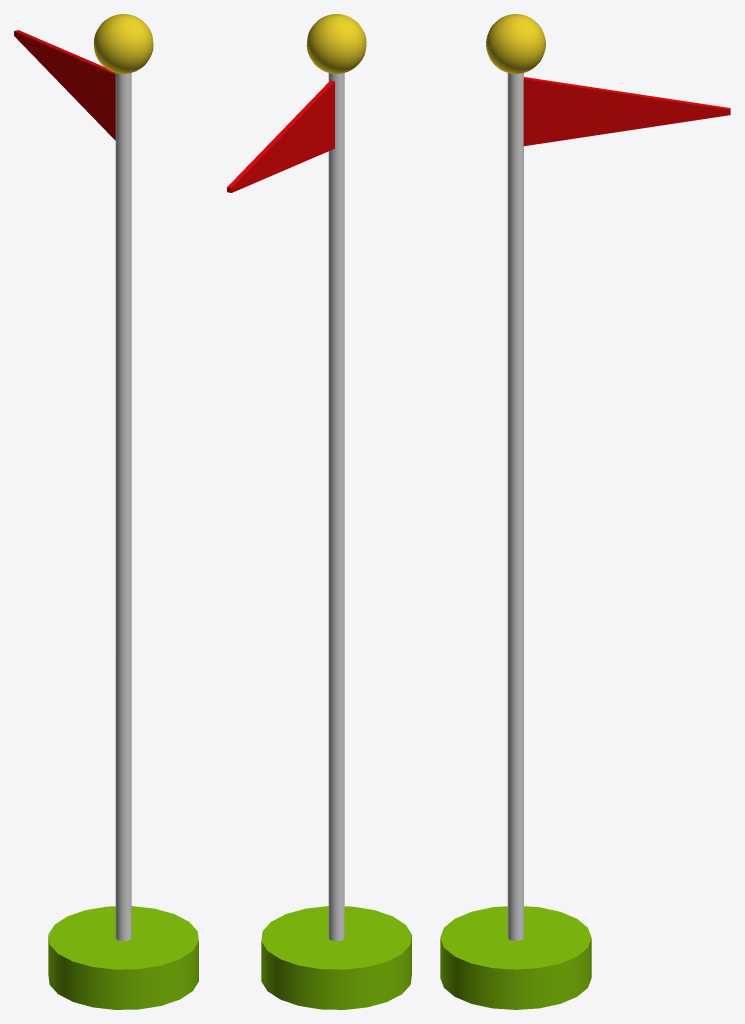
Rendered from Flag.fbx.
3 views of the same model, side by side, from view 1: azimuth 30°, elevation 25°; view 2: azimuth 150°, elevation 25°; view 3: azimuth 270°, elevation 25° (orthographic).
Visible parts, largest first — view 1: Pole, Flag; view 2: Pole, Flag; view 3: Pole, Flag.
Boxes of the visible parts, left/top/right/bottom form: Pole: left=48, top=14, right=198, bottom=1009; Flag: left=14, top=30, right=115, bottom=140; Pole: left=261, top=14, right=411, bottom=1009; Flag: left=227, top=80, right=334, bottom=192; Pole: left=440, top=14, right=591, bottom=1009; Flag: left=523, top=77, right=730, bottom=146.
Bounding box in the file's own units: 2 × 14.09 × 3.84.
